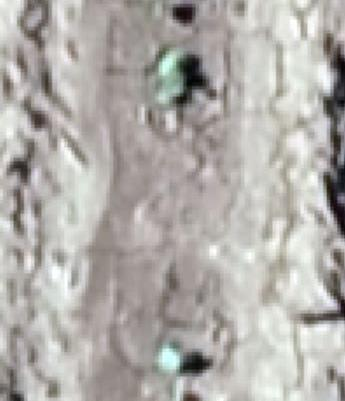cotton: (160, 345, 179, 372), (159, 50, 185, 69), (162, 70, 181, 95)
